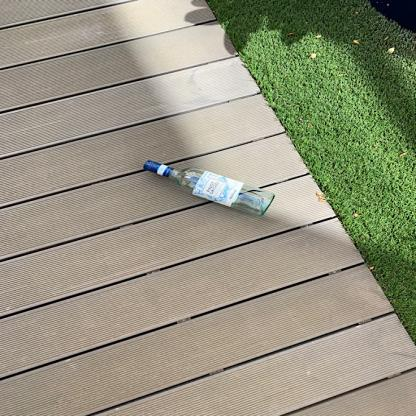trash: (139, 157, 275, 221)
